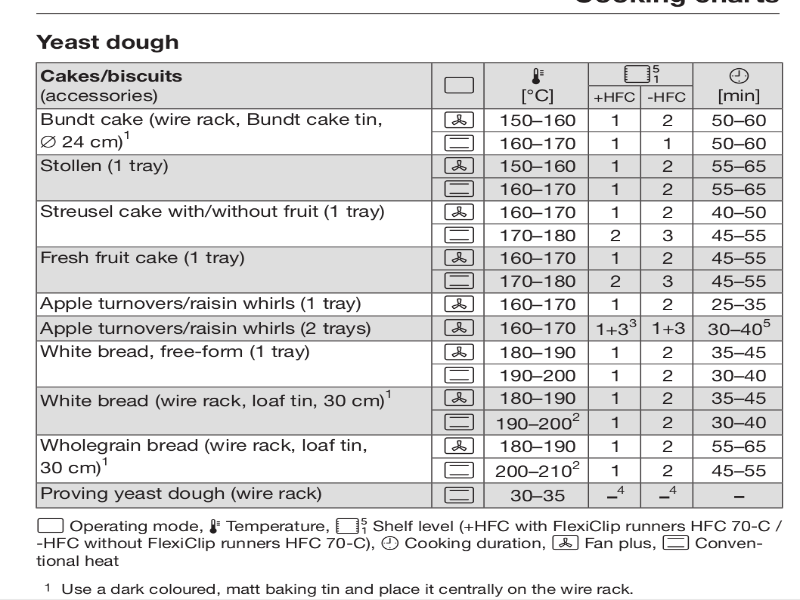border: (26, 52, 794, 515)
cell: (38, 438, 399, 477), (38, 111, 398, 148), (39, 388, 396, 413), (37, 342, 375, 364), (38, 202, 400, 222), (37, 484, 399, 503), (38, 320, 375, 339), (39, 295, 375, 314), (38, 68, 205, 104), (38, 249, 266, 269), (38, 158, 221, 177), (711, 64, 770, 104), (513, 64, 561, 106), (496, 412, 581, 432), (496, 435, 581, 455), (495, 459, 580, 479), (495, 485, 580, 505), (497, 111, 580, 128), (497, 134, 580, 151), (497, 156, 580, 173), (498, 179, 581, 196), (498, 203, 581, 220), (498, 226, 581, 243), (498, 249, 581, 266), (498, 273, 581, 290), (499, 295, 582, 312), (498, 319, 581, 336), (498, 343, 581, 360), (498, 365, 581, 382), (498, 389, 581, 406), (611, 63, 676, 84), (705, 317, 775, 335), (708, 112, 773, 128), (708, 134, 773, 150), (707, 157, 772, 173), (707, 180, 772, 196), (707, 203, 772, 219), (707, 226, 772, 242), (707, 249, 772, 265), (706, 271, 771, 287), (705, 295, 770, 311), (705, 343, 770, 359), (705, 367, 770, 383), (705, 389, 770, 405), (706, 413, 771, 429), (706, 438, 771, 454), (706, 461, 771, 477), (707, 487, 772, 503), (439, 73, 479, 98), (436, 156, 480, 176), (644, 485, 689, 504), (437, 109, 480, 128), (595, 317, 638, 336), (436, 133, 481, 151), (436, 179, 480, 197), (436, 203, 480, 221), (437, 225, 481, 243), (438, 248, 482, 266), (438, 271, 482, 289), (438, 294, 482, 312), (437, 317, 481, 335), (438, 341, 482, 359), (438, 365, 482, 383), (438, 387, 482, 405), (438, 412, 482, 430), (438, 436, 482, 454), (438, 460, 482, 478), (438, 486, 482, 504), (644, 111, 690, 128), (644, 134, 690, 151), (644, 157, 690, 174), (644, 180, 690, 197), (644, 203, 690, 220), (645, 225, 691, 242), (644, 249, 690, 266), (644, 272, 690, 289), (644, 295, 690, 312), (644, 319, 690, 336), (644, 344, 690, 361), (644, 366, 690, 383), (644, 389, 690, 406), (644, 413, 690, 430), (644, 437, 690, 454), (644, 462, 690, 479), (595, 484, 635, 503), (592, 89, 638, 104), (645, 90, 688, 104), (597, 113, 635, 128), (597, 135, 635, 150), (597, 158, 635, 173), (596, 181, 634, 196), (597, 204, 635, 219), (596, 227, 634, 242), (596, 250, 634, 265), (596, 273, 634, 288), (596, 296, 634, 311), (596, 344, 634, 359), (596, 367, 634, 382), (596, 390, 634, 405), (596, 414, 634, 429), (597, 438, 635, 453), (597, 462, 635, 477)
